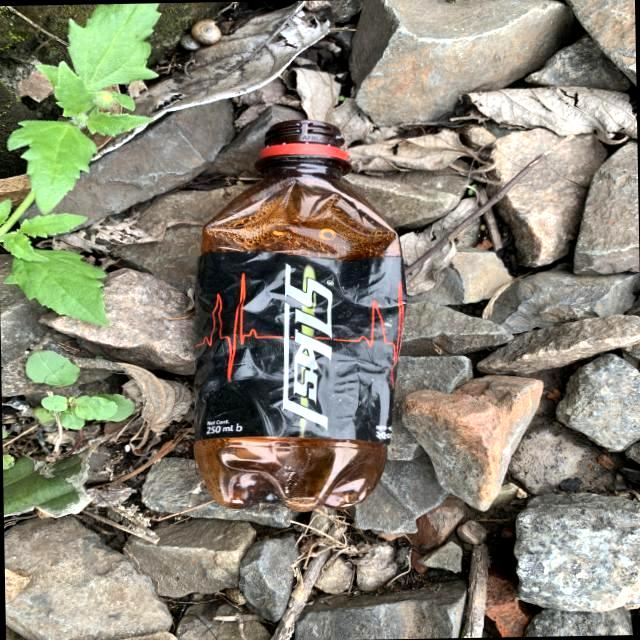bottle: (172, 111, 420, 509)
